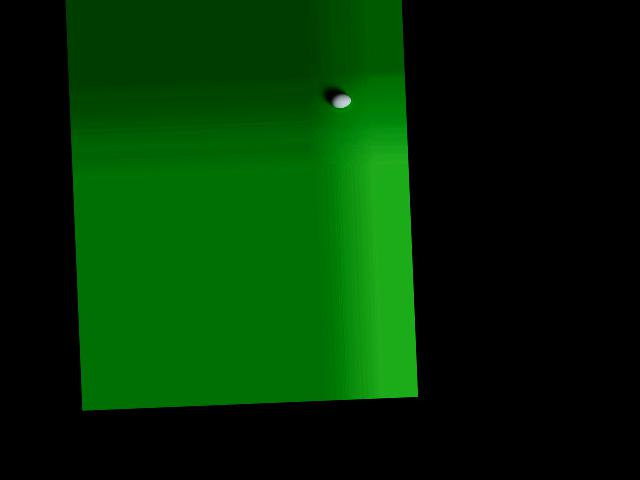egg: (329, 92, 351, 108)
